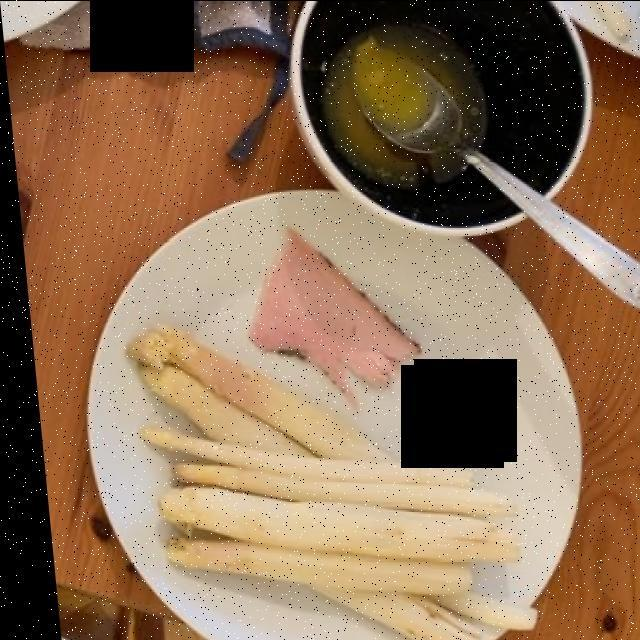asparagus: (121, 330, 520, 636)
salad: (309, 20, 480, 180)
